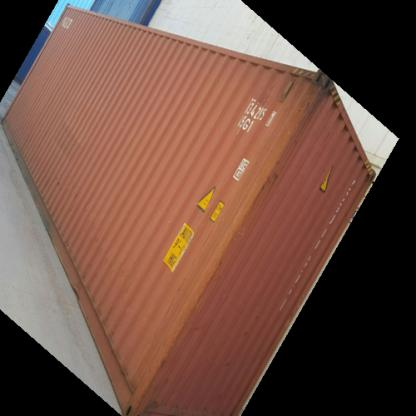Damage: (141, 236, 229, 382), (233, 138, 288, 238), (282, 71, 324, 153)
